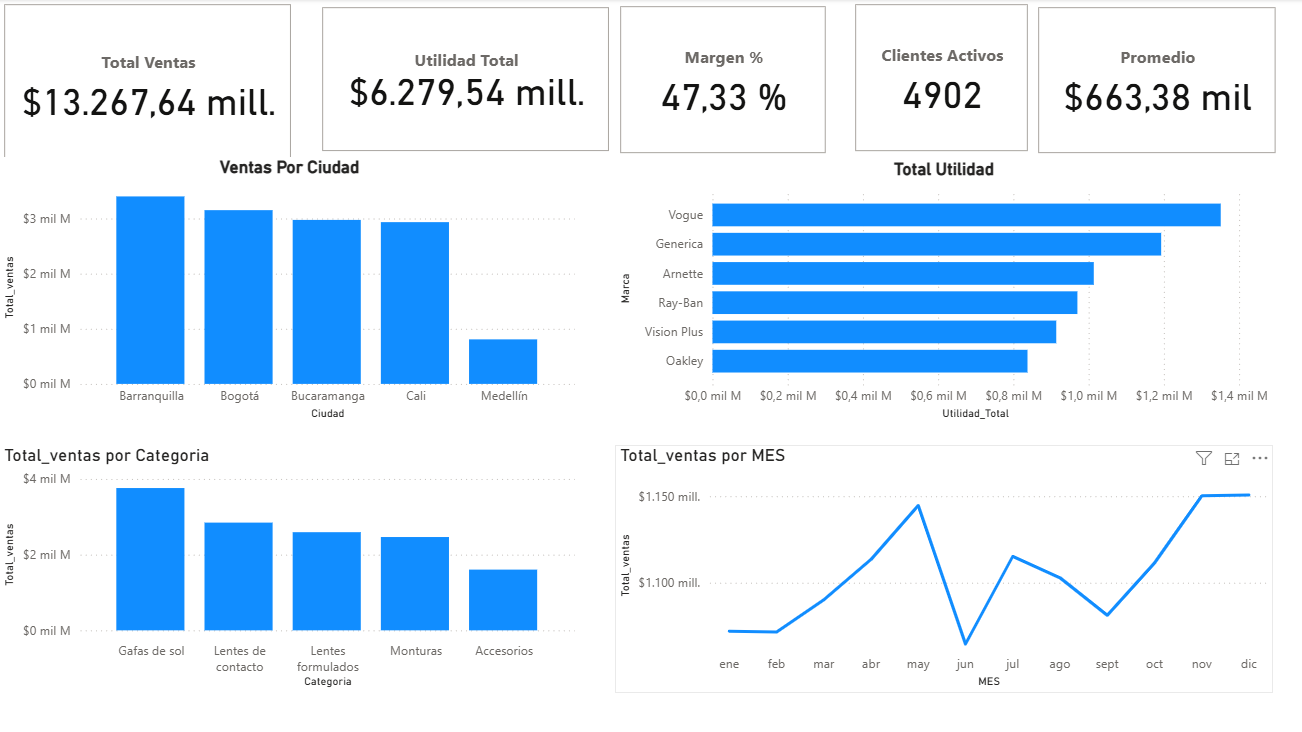

The page's visual inventory and layout, read from the dashboard file:
{"tool":"powerbi","page":{"name":"Resumen_Ejecutivo","canvas":[1280,720],"ordinal":0},"visuals":[{"type":"cardVisual","title":"Total Ventas","fields":{"Data":["Fact_Ventas.Total_ventas"]},"box":[0,0,289.1,168.2],"z":0},{"type":"cardVisual","fields":{"Data":["Fact_Ventas.Utilidad_Total"]},"box":[309.3,3.2,289.8,150.6],"z":1000},{"type":"cardVisual","fields":{"Data":["Fact_Ventas.Margen %"]},"box":[599.1,1.6,210.5,153.8],"z":2000},{"type":"cardVisual","fields":{"Data":["Fact_Ventas.Clientes_Activos"]},"box":[827.4,0,178.1,153.8],"z":3000},{"type":"cardVisual","fields":{"Data":["Fact_Ventas.Tikect_Promedio"]},"box":[1005.5,3.2,241.3,152.2],"z":4000},{"type":"columnChart","title":"Ventas Por Ciudad","fields":{"Category":["Dim_Sedes.Ciudad"],"Y":["Fact_Ventas.Total_ventas"]},"box":[0,153.8,565.1,260.7],"z":5000},{"type":"columnChart","fields":{"Category":["Dim_Productos.Categoria"],"Y":["Fact_Ventas.Total_ventas"]},"box":[0,434,565.1,241.3],"z":6000},{"type":"barChart","title":"Total Utilidad","fields":{"Category":["Dim_Productos.Marca"],"Y":["Fact_Ventas.Utilidad_Total"]},"box":[599.1,155.4,647.7,259.1],"z":7000},{"type":"lineChart","fields":{"Y":["Fact_Ventas.Total_ventas"],"Category":["Calenadario.MES"]},"box":[599.1,434,647.7,241.3],"z":8000}]}

Visuals, with their boxes in screenshot pixels (x1, y1, x2, y2), scaled from the page's 1280x720 canvas onto the 1302x732 screenshot:
"Total Ventas" cardVisual: [0, 0, 294, 171]
cardVisual - Fact_Ventas.Utilidad_Total: [315, 3, 609, 156]
cardVisual - Fact_Ventas.Margen %: [609, 2, 824, 158]
cardVisual - Fact_Ventas.Clientes_Activos: [842, 0, 1023, 156]
cardVisual - Fact_Ventas.Tikect_Promedio: [1023, 3, 1268, 158]
"Ventas Por Ciudad" columnChart: [0, 156, 575, 421]
columnChart - Dim_Productos.Categoria x Fact_Ventas.Total_ventas: [0, 441, 575, 687]
"Total Utilidad" barChart: [609, 158, 1268, 421]
lineChart - Fact_Ventas.Total_ventas x Calenadario.MES: [609, 441, 1268, 687]
